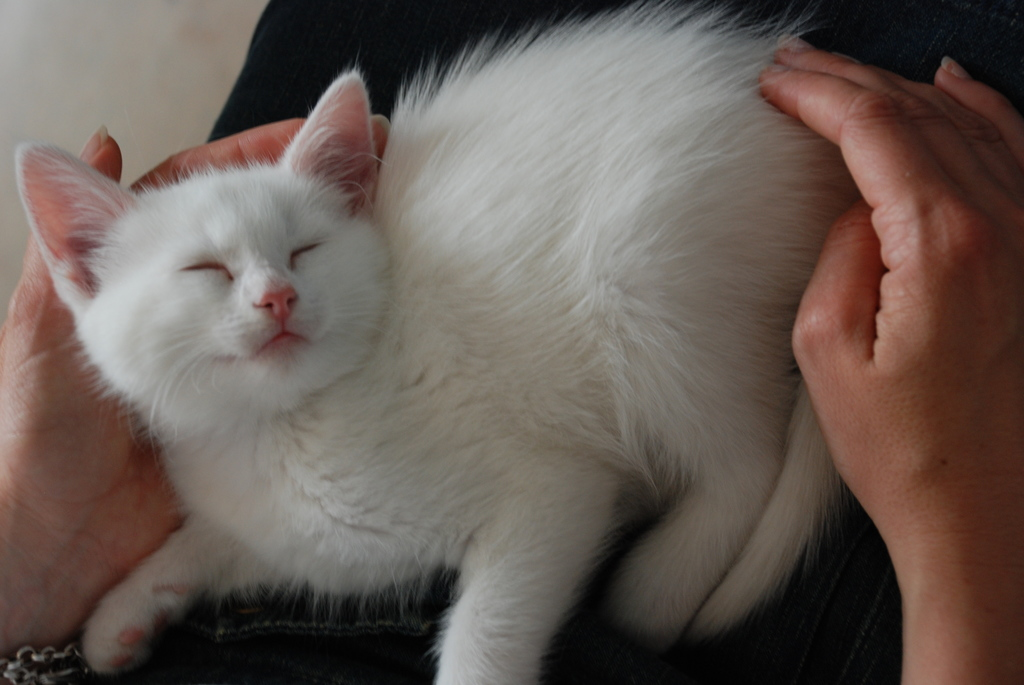Human_hand: (0, 114, 391, 661), (757, 34, 1023, 624)
